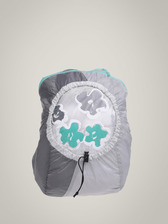bag: (32, 71, 133, 199)
